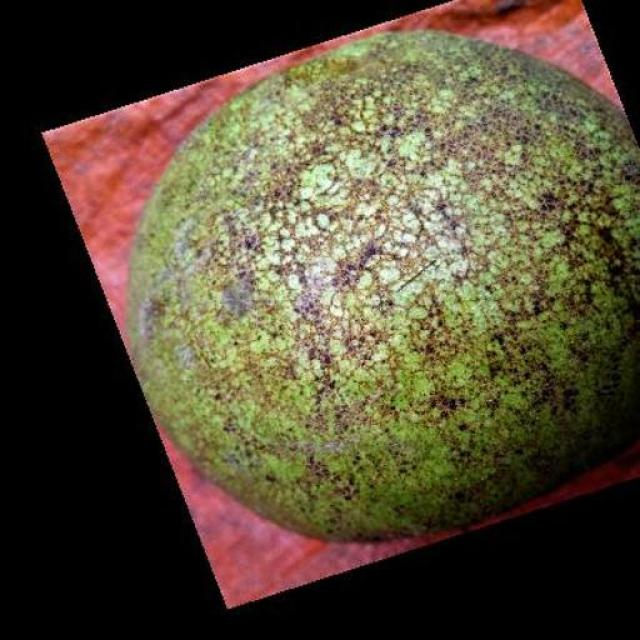Scab: (45, 0, 640, 607)
